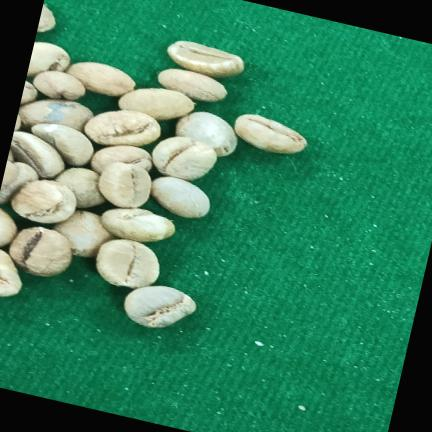good: (96, 239, 159, 289), (9, 227, 72, 276), (124, 286, 196, 328), (53, 211, 116, 258), (152, 137, 217, 181), (167, 41, 244, 78), (11, 180, 77, 223), (84, 110, 160, 147), (234, 115, 306, 154), (175, 112, 237, 157), (31, 124, 93, 167), (10, 131, 64, 179), (118, 88, 194, 121), (18, 99, 94, 132), (151, 177, 210, 218), (66, 62, 135, 97), (158, 69, 227, 102), (56, 168, 106, 208), (0, 162, 39, 203), (33, 71, 86, 100), (27, 42, 70, 77), (0, 249, 22, 297), (0, 209, 17, 247), (37, 4, 55, 32)
